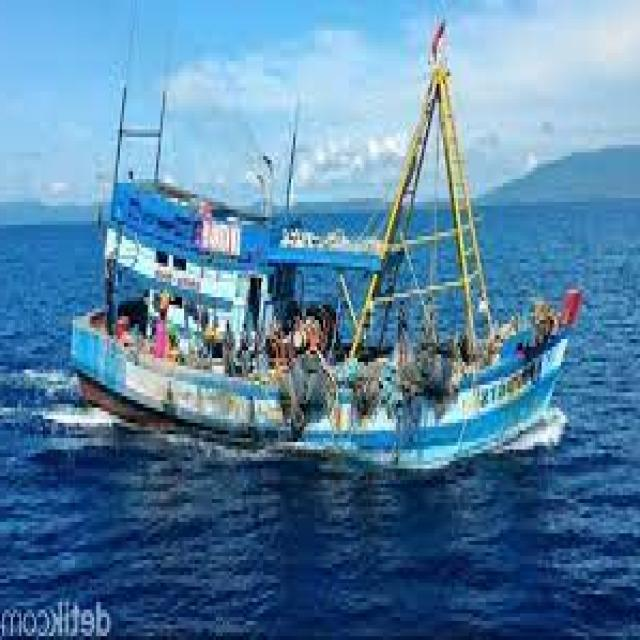Fishing Boat: (45, 88, 602, 461)
